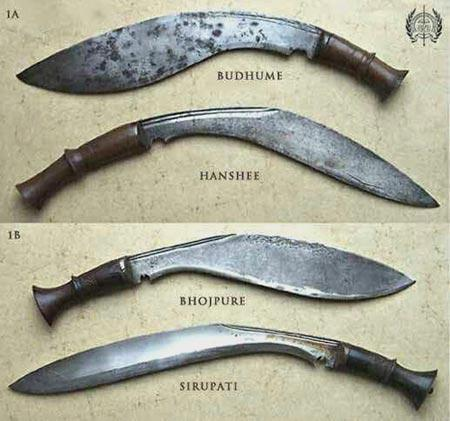facao: (17, 107, 438, 208), (10, 324, 436, 407), (17, 11, 407, 99), (33, 234, 414, 324)
